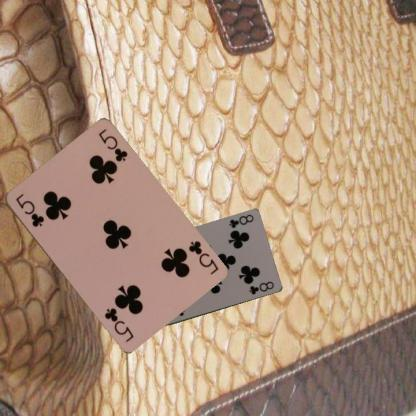5c: (186, 238, 219, 276), (13, 191, 46, 228)
8c: (226, 212, 255, 229)
